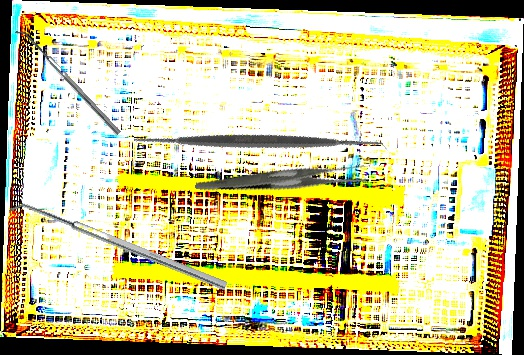Dressing Forceps: (194, 127, 370, 228)
Spatula Surgical: (126, 10, 391, 274), (8, 196, 228, 299), (14, 25, 121, 140)
